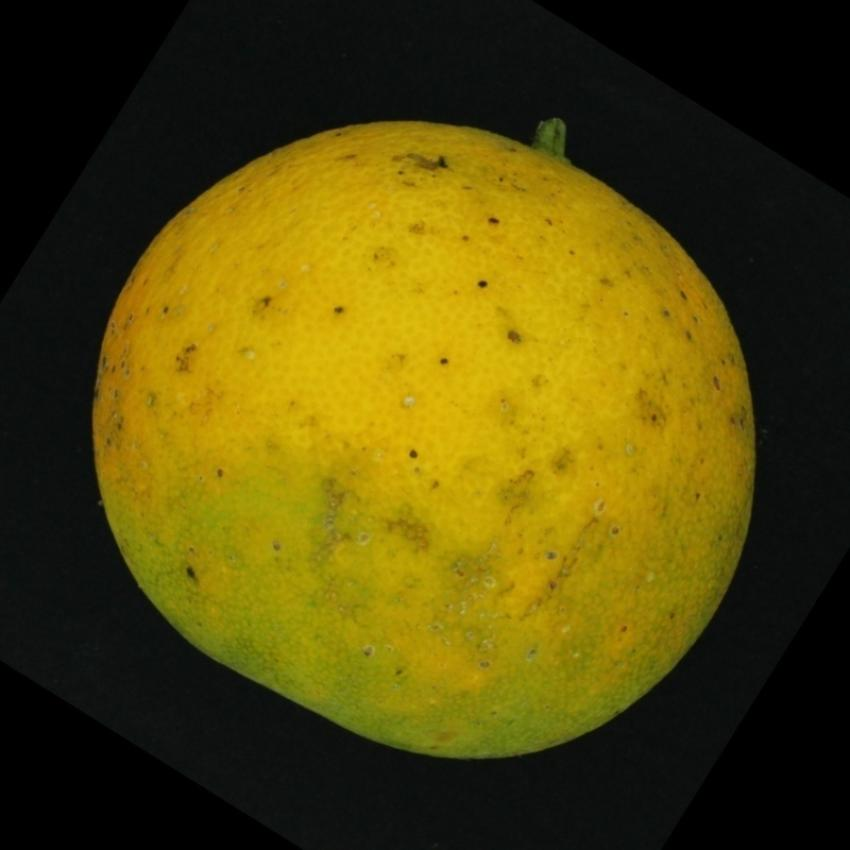Mal estado: (59, 84, 783, 767)
